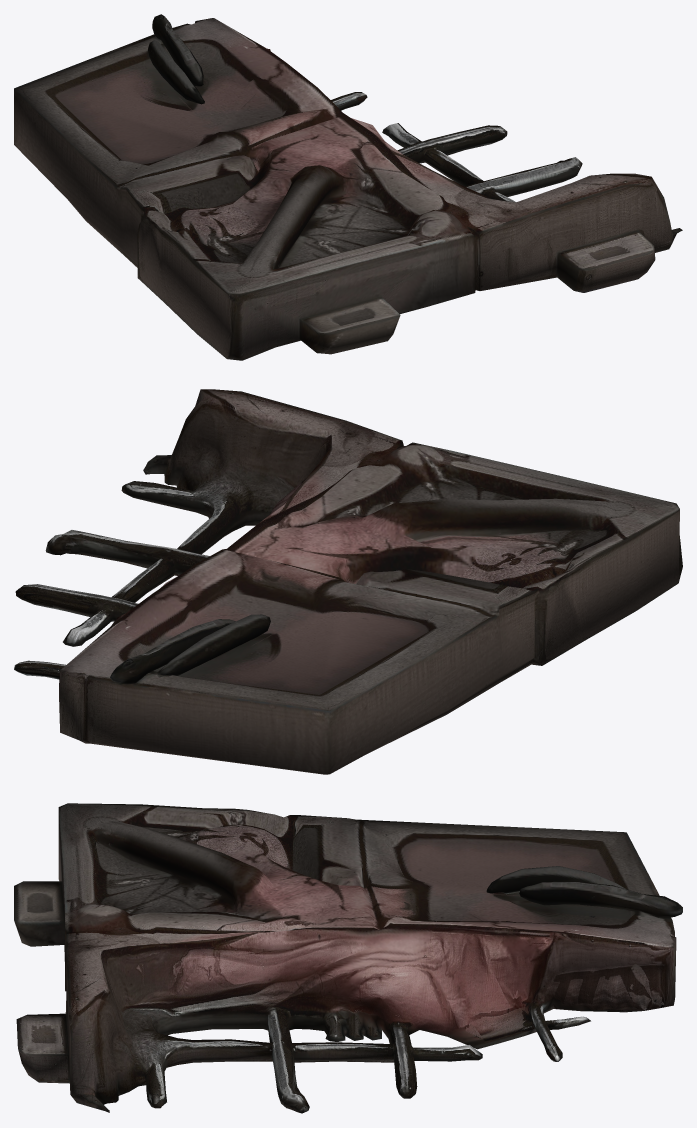
Rendered from tripo_convert_b3c51357-3ea1-4829-b968-08180eb3cc7f.fbx.
3 views of the same model, one above another, from view 1: azimuth 30°, elevation 25°; view 2: azimuth 150°, elevation 25°; view 3: azimuth 270°, elevation 25° (orthographic). The views are drawn at different scales.
Visible parts, largest first — view 1: tripo_node_b3c51357; view 2: tripo_node_b3c51357; view 3: tripo_node_b3c51357.
Boxes of the visible parts, <box> form: tripo_node_b3c51357: <box>14,14,682,360</box>; tripo_node_b3c51357: <box>14,389,682,774</box>; tripo_node_b3c51357: <box>14,803,682,1113</box>.
Bounding box in the file's own units: 0.8457 × 0.1621 × 0.998.
1 material, 1 textured.
